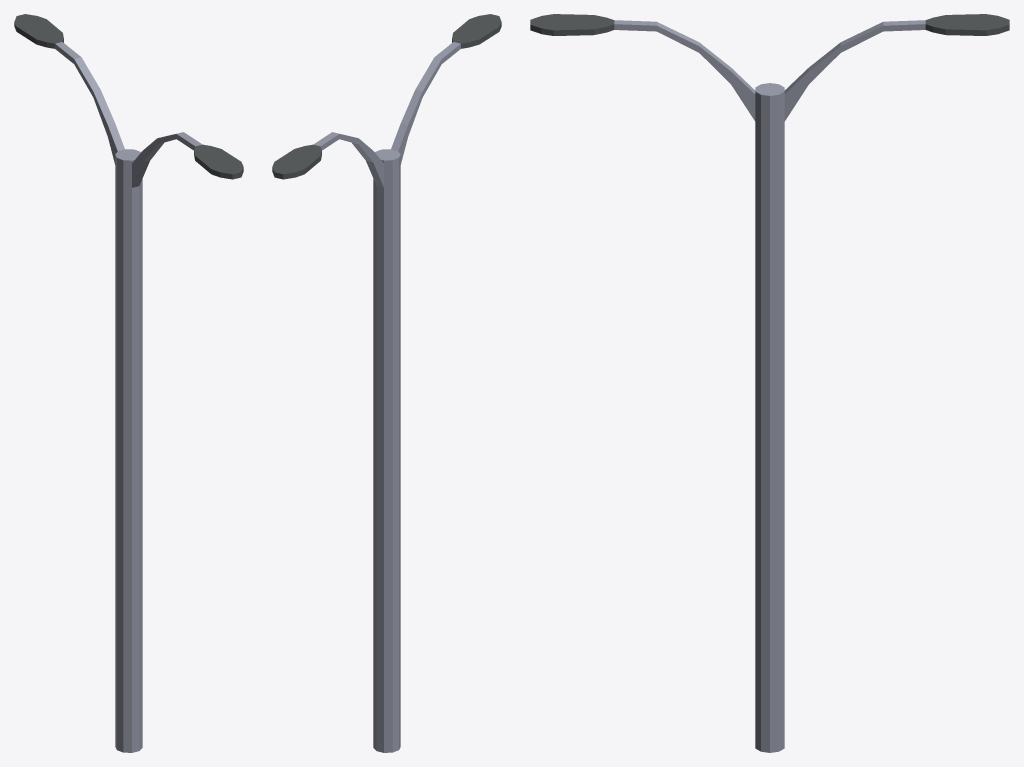
File: Model_Lampa1.fbx
The picture shows the model from 3 angles, left to right: view 1: azimuth 30°, elevation 25°; view 2: azimuth 150°, elevation 25°; view 3: azimuth 270°, elevation 25°; orthographic projection. The views are drawn at different scales.
Parts seen in each view (by area): view 1: Cylinder; view 2: Cylinder; view 3: Cylinder.
Part boxes in pixels (x1,y1,x2,y2): Cylinder: (14,14,243,752); Cylinder: (272,14,501,752); Cylinder: (530,14,1009,752).
Bounding box in the file's own units: 463 × 772 × 37.36.
